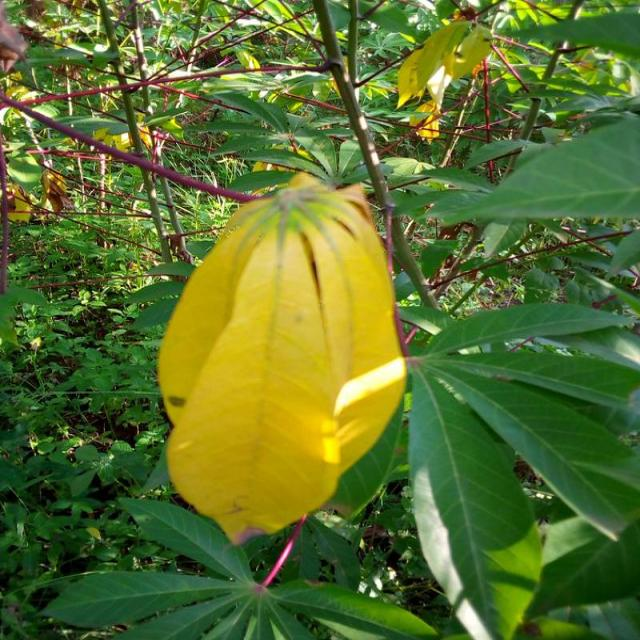cassava leaf: (156, 170, 407, 546)
